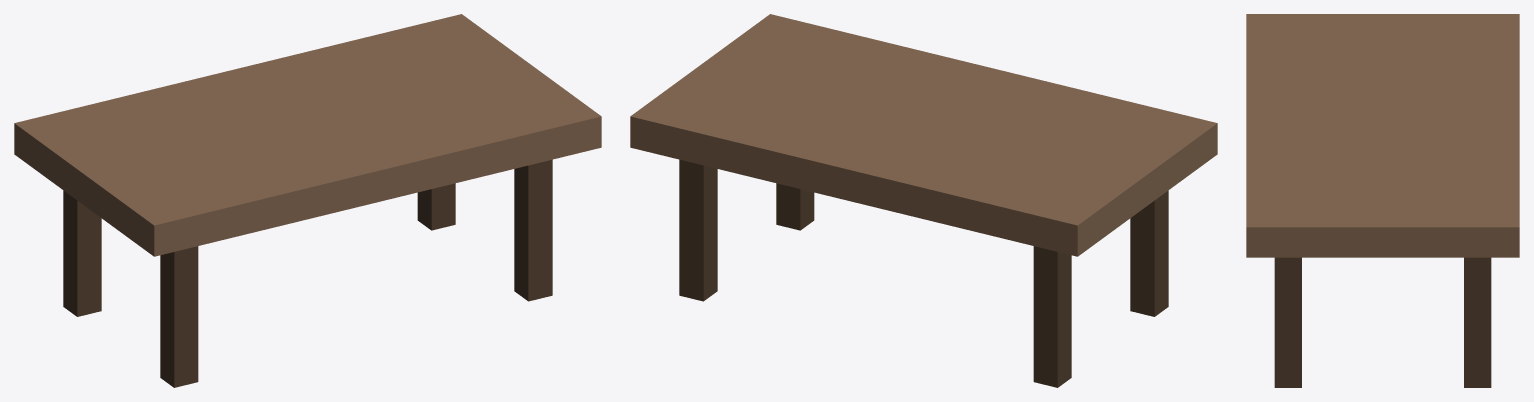
File: room_table.glb
3 renders of one model, left to right at view 1: azimuth 30°, elevation 25°; view 2: azimuth 150°, elevation 25°; view 3: azimuth 270°, elevation 25°, orthographic. The views are drawn at different scales.
Parts seen in each view (by area): view 1: tabletop, leg, leg.002, leg.001, leg.003; view 2: tabletop, leg.001, leg.003, leg, leg.002; view 3: tabletop, leg.002, leg.003.
Part boxes in pixels (bbox=[...]): tabletop: bbox=[14, 14, 601, 256]; leg: bbox=[160, 246, 198, 387]; leg.002: bbox=[514, 159, 552, 301]; leg.001: bbox=[63, 190, 101, 316]; leg.003: bbox=[417, 183, 455, 230]; tabletop: bbox=[630, 14, 1217, 256]; leg.001: bbox=[1033, 246, 1071, 387]; leg.003: bbox=[679, 159, 717, 301]; leg: bbox=[1130, 190, 1168, 316]; leg.002: bbox=[776, 183, 814, 230]; tabletop: bbox=[1246, 14, 1519, 257]; leg.002: bbox=[1274, 257, 1301, 387]; leg.003: bbox=[1464, 257, 1491, 387].
Bounding box in the file's own units: 2.4 × 0.93 × 1.3.
